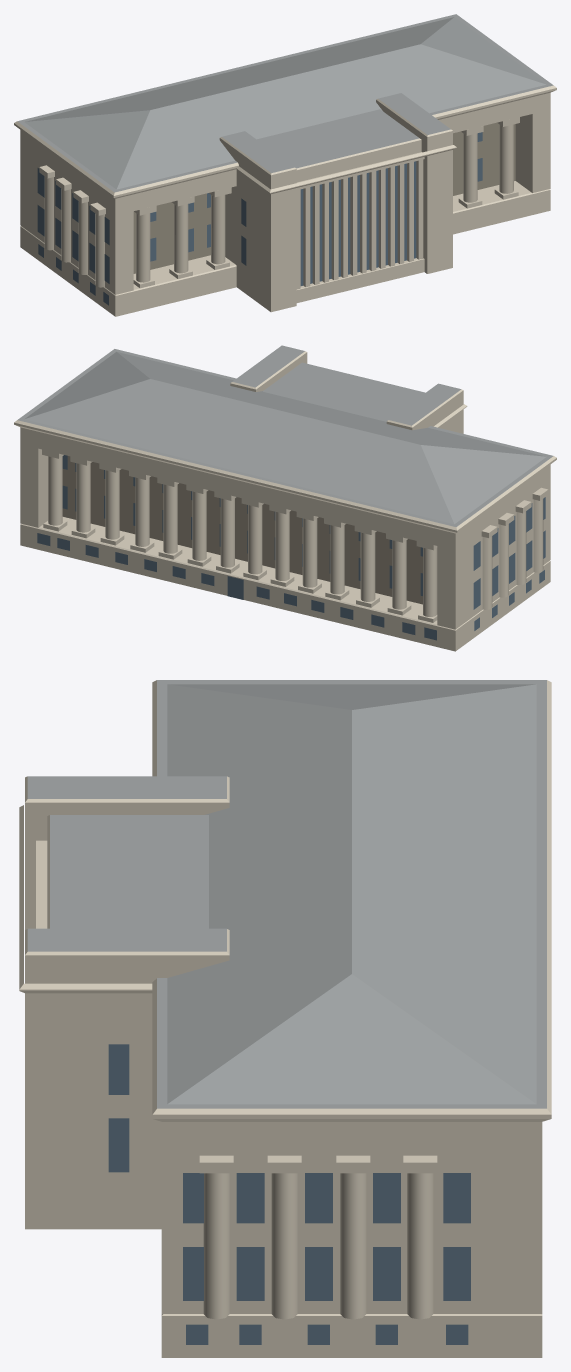
File: den-mcnichols-building.glb
3 renders of one model, top to bottom at view 1: azimuth 30°, elevation 25°; view 2: azimuth 150°, elevation 25°; view 3: azimuth 270°, elevation 25°, orthographic. The views are drawn at different scales.
Visible parts, largest first — view 1: McNichols Civic Center Building; view 2: McNichols Civic Center Building; view 3: McNichols Civic Center Building.
Part boxes in pixels (x1=…): McNichols Civic Center Building: x1=14, y1=14, x2=556, y2=316; McNichols Civic Center Building: x1=14, y1=345, x2=556, y2=651; McNichols Civic Center Building: x1=19, y1=680, x2=551, y2=1357.
Bounding box in the file's own units: 55.82 × 18 × 28.6.
